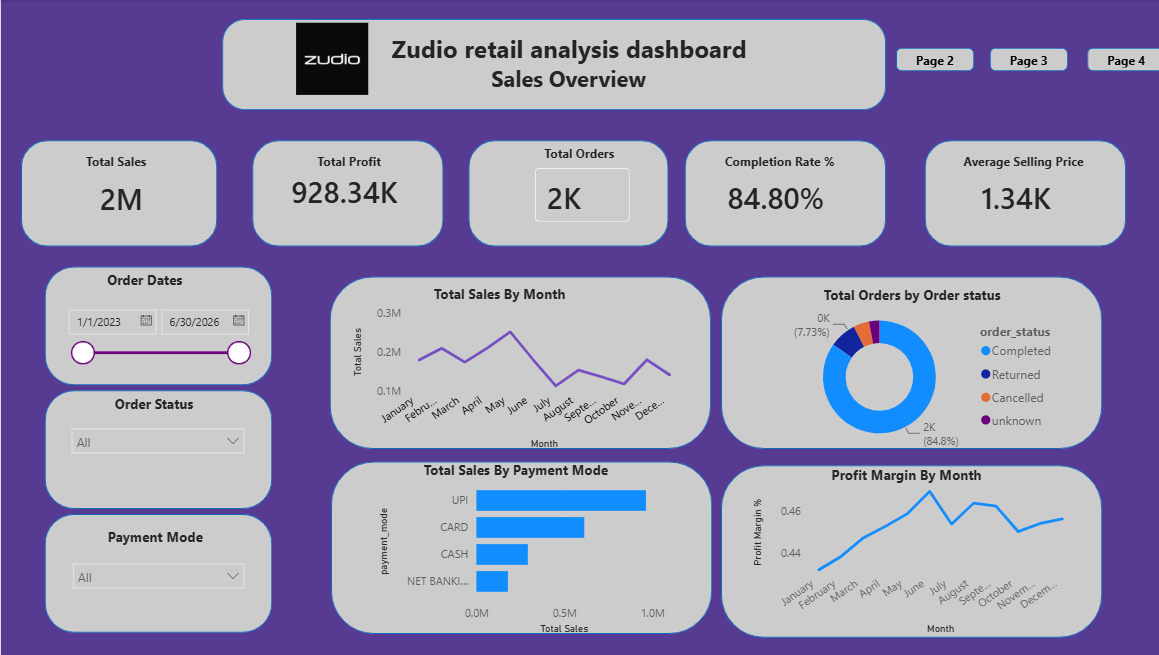

The dashboard page shown, as its layout file describes it:
{"tool":"powerbi","page":{"name":"Sales Overview","canvas":[1280,720],"ordinal":0},"visuals":[{"type":"shape","box":[242.9,21.4,728.6,100],"z":0},{"type":"textbox","box":[408.9,31.6,429.5,56.3],"z":1000},{"type":"textbox","box":[524.2,65.9,197.6,43.9],"z":2000},{"type":"shape","box":[275.8,155.1,209.9,116.6],"z":3000},{"type":"shape","box":[513.2,155.1,219.6,116.6],"z":4000},{"type":"shape","box":[750.6,155.1,220.9,116.6],"z":5000},{"type":"shape","box":[1014.1,155.1,220.9,116.6],"z":6000},{"type":"shape","box":[360.9,304.6,418.5,189.4],"z":7000},{"type":"shape","box":[790.4,304.6,418.5,189.4],"z":8000},{"type":"shape","box":[362.3,507.7,418.5,189.4],"z":9000},{"type":"shape","box":[790.4,511.8,418.5,189.4],"z":10000},{"type":"shape","box":[22,155.1,215.4,116.6],"z":11000},{"type":"cardVisual","fields":{"Data":["All Measures.Total Sales"]},"box":[79.6,168.8,130.4,98.8],"z":12000},{"type":"cardVisual","fields":{"Data":["All Measures.Total Orders"]},"box":[569.5,168.8,138.6,93.3],"z":13000},{"type":"cardVisual","fields":{"Data":["All Measures.Completion Rate %"]},"box":[768.4,164.7,183.9,102.9],"z":14000},{"type":"cardVisual","fields":{"Data":["All Measures.Total Profit"]},"box":[289.5,166,183.9,89.2],"z":15000},{"type":"cardVisual","fields":{"Data":["All Measures.Average Selling Price"]},"box":[1047,166,161.9,101.5],"z":16000},{"type":"shape","box":[48,293.7,249.7,130.4],"z":17000},{"type":"lineChart","fields":{"Y":["All Measures.Total Sales"],"Category":["DateTable.Month"]},"box":[381.5,330.7,367.8,168.8],"z":18000},{"type":"donutChart","fields":{"Category":["orders.order_status"],"Y":["All Measures.Total Orders"]},"box":[849.4,322.5,325.2,185.2],"z":19000},{"type":"barChart","fields":{"Category":["orders.payment_mode"],"Y":["All Measures.Total Sales"]},"box":[410.3,514.6,323.8,188],"z":20000},{"type":"lineChart","fields":{"Category":["DateTable.Month"],"Y":["All Measures.Profit Margin %"]},"box":[820.6,525.6,359.5,177],"z":21000},{"type":"shape","box":[48,429.5,249.7,130.4],"z":22000},{"type":"shape","box":[48,565.4,249.7,130.4],"z":23000},{"type":"slicer","fields":{"Values":["orders.order_date"]},"box":[61.7,330.7,220.9,71.4],"z":24000},{"type":"slicer","fields":{"Values":["orders.order_status"]},"box":[67.2,461.1,209.9,65.9],"z":25000},{"type":"slicer","fields":{"Values":["orders.payment_mode"]},"box":[68.6,609.3,208.6,42.5],"z":26000},{"type":"textbox","box":[1047,164.7,150.9,31.6],"z":27000},{"type":"textbox","box":[779.4,164.7,150.9,31.6],"z":28000},{"type":"textbox","box":[580.4,155.1,108.4,31.6],"z":29000},{"type":"textbox","box":[328,164.7,108.4,31.6],"z":30000},{"type":"textbox","box":[64.5,164.7,123.5,31.6],"z":31000},{"type":"textbox","box":[79.6,293.7,156.4,41.2],"z":32000},{"type":"textbox","box":[100.2,429.5,135.8,31.6],"z":33000},{"type":"textbox","box":[96.1,575,146.8,31.6],"z":34000},{"type":"textbox","box":[459.7,308.7,175.6,31.6],"z":35000},{"type":"textbox","box":[447.3,502.2,236,48],"z":36000},{"type":"textbox","box":[883.7,310.1,233.3,31.6],"z":37000},{"type":"textbox","box":[883.7,507.7,220.9,31.6],"z":38000},{"type":"shape","box":[982.9,52.9,85.7,25.7],"z":39000},{"type":"shape","box":[1085.7,52.9,85.7,25.7],"z":40000},{"type":"shape","box":[1192.9,52.9,85.7,25.7],"z":41000},{"type":"image","box":[289.5,26.1,148.2,79.6],"z":42000}]}

Visuals, with their boxes in screenshot pixels (x1, y1, x2, y2), scaled from the page's 1280x720 canvas onto the 1159x655 screenshot:
shape: x1=220 y1=19 x2=880 y2=110
textbox: x1=370 y1=29 x2=759 y2=80
textbox: x1=475 y1=60 x2=654 y2=100
shape: x1=250 y1=141 x2=440 y2=247
shape: x1=465 y1=141 x2=664 y2=247
shape: x1=680 y1=141 x2=880 y2=247
shape: x1=918 y1=141 x2=1118 y2=247
shape: x1=327 y1=277 x2=706 y2=449
shape: x1=716 y1=277 x2=1095 y2=449
shape: x1=328 y1=462 x2=707 y2=634
shape: x1=716 y1=466 x2=1095 y2=638
shape: x1=20 y1=141 x2=215 y2=247
cardVisual - All Measures.Total Sales: x1=72 y1=154 x2=190 y2=243
cardVisual - All Measures.Total Orders: x1=516 y1=154 x2=641 y2=238
cardVisual - All Measures.Completion Rate %: x1=696 y1=150 x2=862 y2=243
cardVisual - All Measures.Total Profit: x1=262 y1=151 x2=429 y2=232
cardVisual - All Measures.Average Selling Price: x1=948 y1=151 x2=1095 y2=243
shape: x1=43 y1=267 x2=270 y2=386
lineChart - All Measures.Total Sales x DateTable.Month: x1=345 y1=301 x2=678 y2=454
donutChart - orders.order_status x All Measures.Total Orders: x1=769 y1=293 x2=1064 y2=462
barChart - orders.payment_mode x All Measures.Total Sales: x1=372 y1=468 x2=665 y2=639
lineChart - DateTable.Month x All Measures.Profit Margin %: x1=743 y1=478 x2=1069 y2=639
shape: x1=43 y1=391 x2=270 y2=509
shape: x1=43 y1=514 x2=270 y2=633
slicer - orders.order_date: x1=56 y1=301 x2=256 y2=366
slicer - orders.order_status: x1=61 y1=419 x2=251 y2=479
slicer - orders.payment_mode: x1=62 y1=554 x2=251 y2=593
textbox: x1=948 y1=150 x2=1085 y2=179
textbox: x1=706 y1=150 x2=842 y2=179
textbox: x1=526 y1=141 x2=624 y2=170
textbox: x1=297 y1=150 x2=395 y2=179
textbox: x1=58 y1=150 x2=170 y2=179
textbox: x1=72 y1=267 x2=214 y2=305
textbox: x1=91 y1=391 x2=214 y2=419
textbox: x1=87 y1=523 x2=220 y2=552
textbox: x1=416 y1=281 x2=575 y2=310
textbox: x1=405 y1=457 x2=619 y2=501
textbox: x1=800 y1=282 x2=1011 y2=311
textbox: x1=800 y1=462 x2=1000 y2=491
shape: x1=890 y1=48 x2=968 y2=72
shape: x1=983 y1=48 x2=1061 y2=72
shape: x1=1080 y1=48 x2=1158 y2=72
image: x1=262 y1=24 x2=396 y2=96
